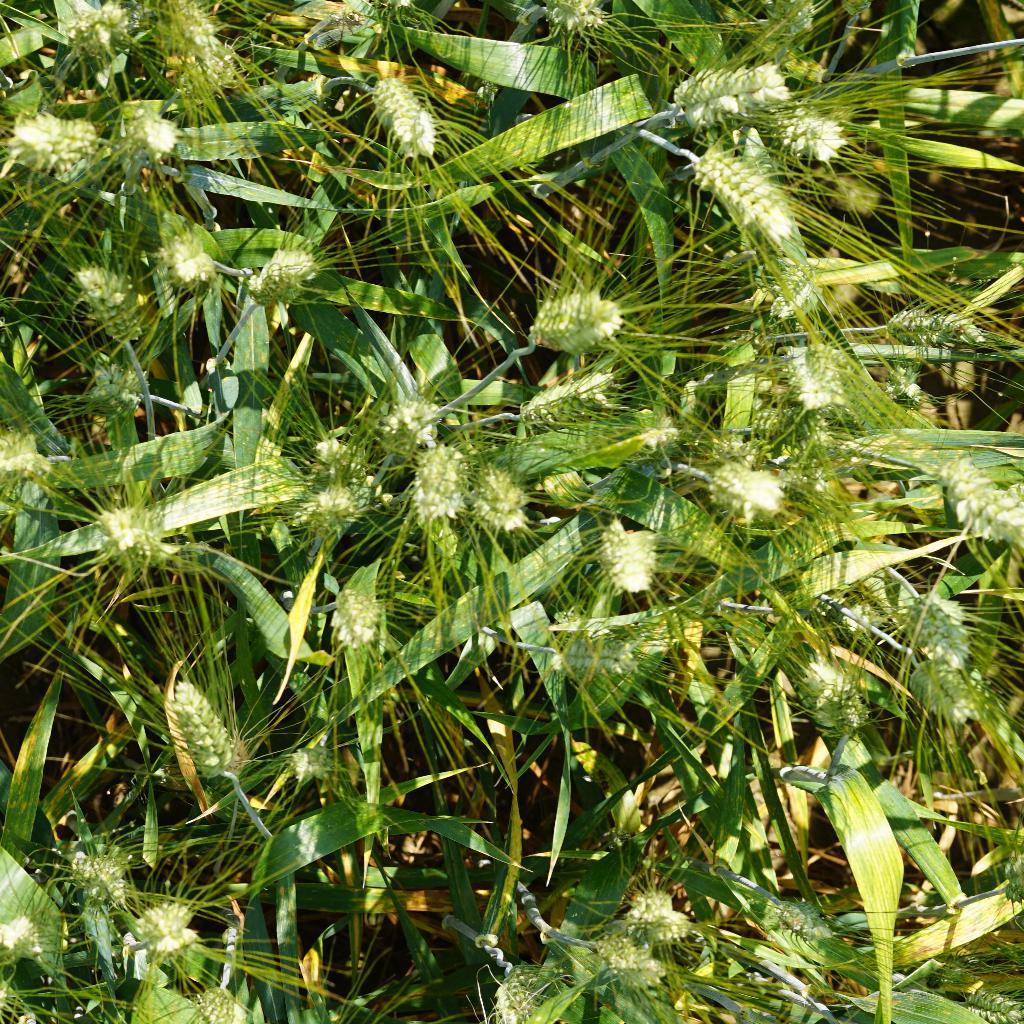0-0: (695, 149, 807, 257), (153, 669, 250, 791), (662, 45, 785, 124), (351, 64, 443, 169), (933, 441, 1024, 542), (148, 0, 250, 90), (0, 100, 97, 190), (583, 505, 679, 593), (518, 287, 627, 363), (691, 456, 799, 530), (514, 367, 624, 433), (766, 93, 864, 163), (899, 582, 979, 666), (881, 295, 998, 351), (70, 265, 146, 350), (555, 612, 642, 686), (407, 437, 470, 535), (49, 845, 137, 915), (626, 875, 703, 955), (459, 456, 533, 537), (795, 656, 870, 735), (907, 657, 990, 725), (597, 919, 672, 993), (240, 235, 318, 306), (120, 896, 201, 963), (807, 584, 889, 650), (296, 411, 377, 475), (763, 256, 832, 331), (118, 100, 189, 172), (319, 575, 389, 648), (68, 0, 138, 71), (82, 351, 153, 421), (372, 377, 444, 444), (98, 489, 165, 559), (787, 332, 844, 411), (292, 467, 363, 530), (738, 405, 845, 445), (777, 452, 845, 514), (144, 224, 216, 281), (621, 408, 689, 468), (769, 894, 843, 949), (479, 970, 552, 1024), (280, 736, 345, 795), (0, 426, 62, 486), (539, 0, 616, 48), (695, 425, 762, 475), (173, 977, 244, 1024), (0, 904, 44, 968), (913, 951, 983, 991), (755, 0, 826, 37), (602, 826, 654, 873), (883, 355, 926, 406), (128, 760, 172, 794), (469, 73, 500, 111)
